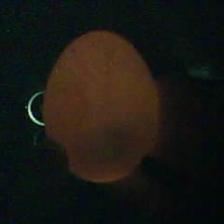fertile: (40, 28, 161, 184)
